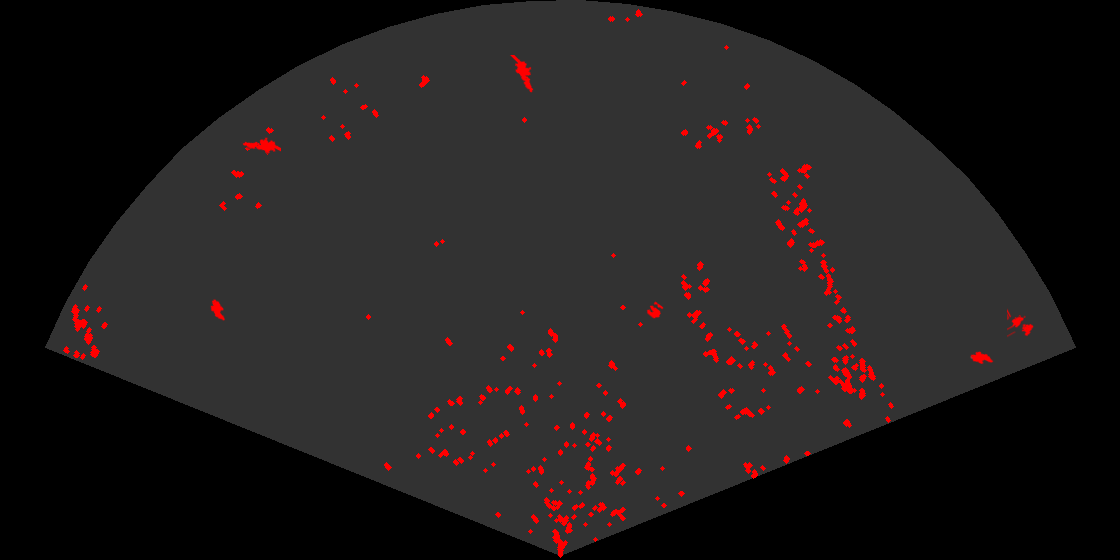AUV: (209, 297, 227, 322), (969, 350, 995, 366)
ball: (645, 300, 665, 320)
cage: (1007, 307, 1035, 339)
frogman: (508, 55, 535, 94), (241, 136, 281, 155)
